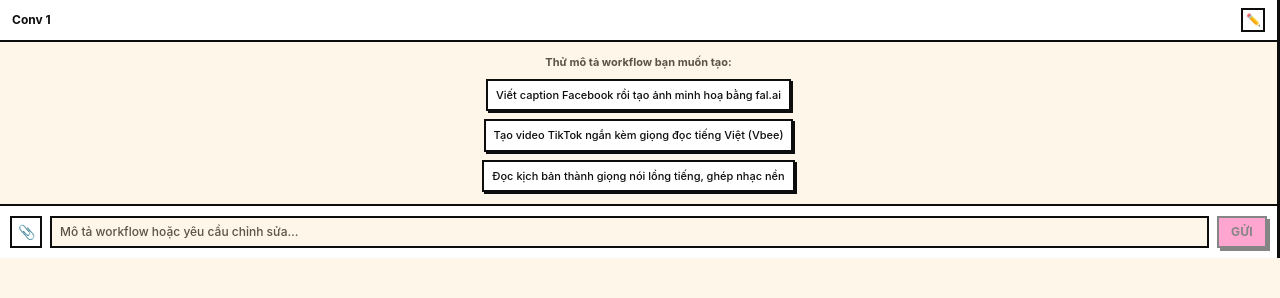
Scenario: ChatPane — composer › does not clear the composer on a 409 (turn-in-progress) — the typed content must survive so the user can retry
The image size is (1280, 298).
Type "nội dung chưa gửi được" into the text box with test id "chat-input" at [630, 232], box [50,216,1209,248]
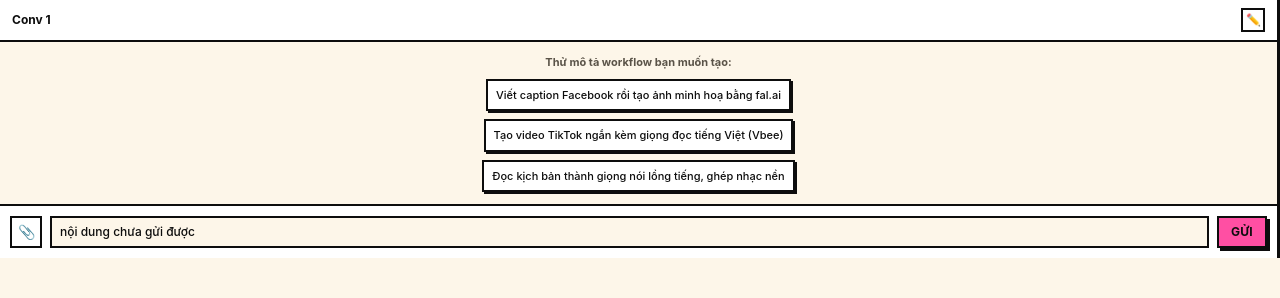
Click the button with test id "chat-send" at [1242, 232], box [1217,216,1267,248]
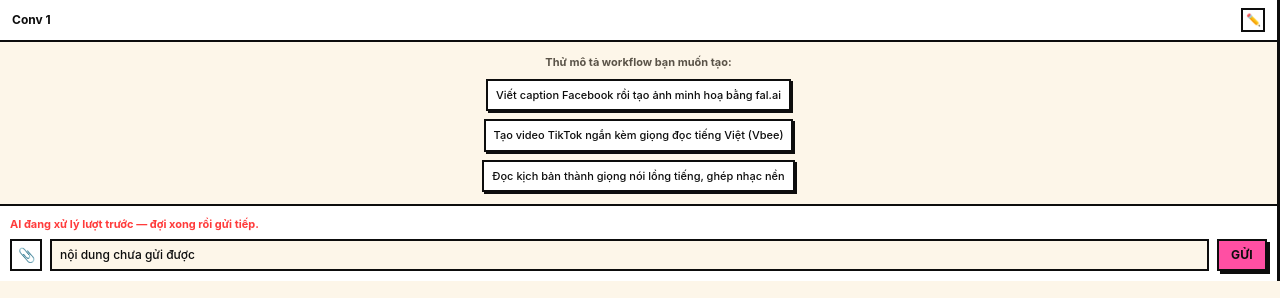
Now the text "AI đang xử lý lượt trước — đợi xong rồi gửi tiếp." is shown, box [10,217,259,231]
